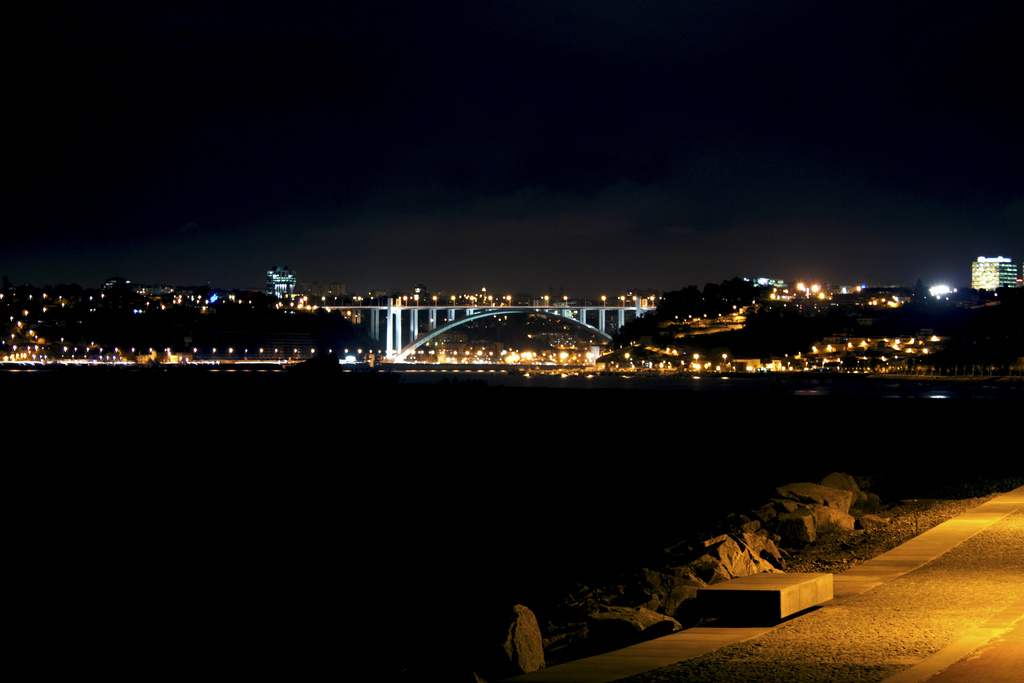arrabida: (317, 296, 657, 362)
